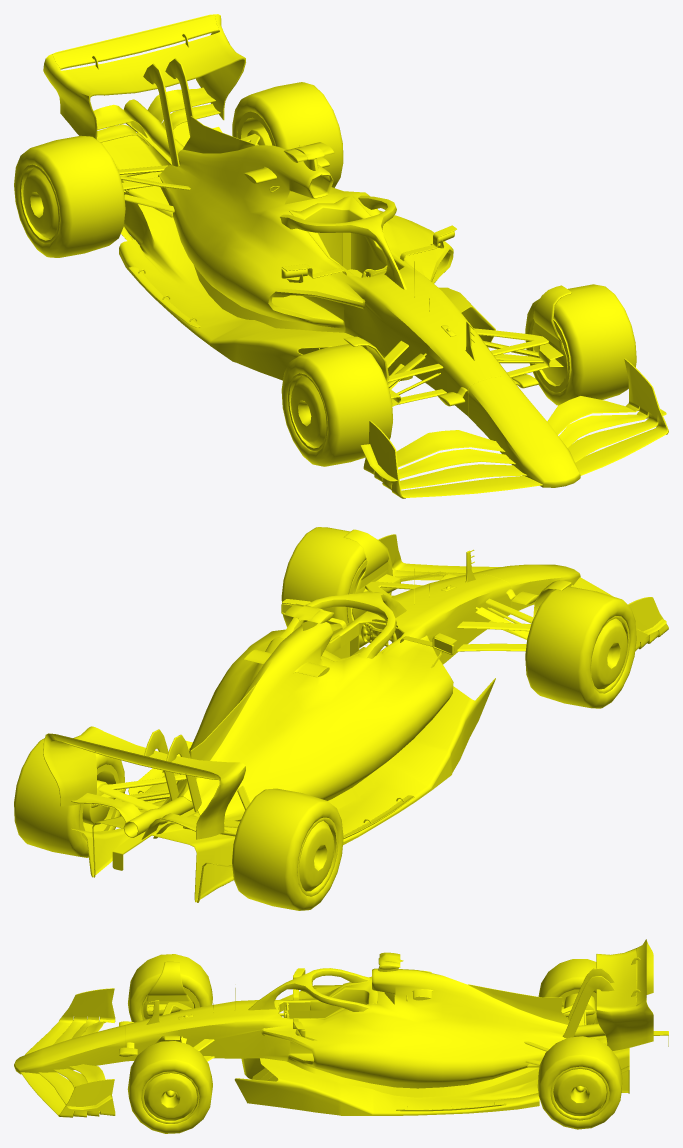
The model's file is F1PS_F1_Car_V11_Rev4.glb.
The picture shows the model from 3 angles, top to bottom: view 1: azimuth 30°, elevation 25°; view 2: azimuth 150°, elevation 25°; view 3: azimuth 270°, elevation 25°; orthographic projection. The views are drawn at different scales.
Parts seen in each view (by area): view 1: F1PS_F1_Car_Customizable, F1PS_F1_Car_Static; view 2: F1PS_F1_Car_Customizable, F1PS_F1_Car_Static; view 3: F1PS_F1_Car_Customizable, F1PS_F1_Car_Static.
Boxes of the visible parts, <box> form: F1PS_F1_Car_Customizable: <box>23,14,668,498</box>; F1PS_F1_Car_Static: <box>14,34,636,466</box>; F1PS_F1_Car_Customizable: <box>43,534,668,891</box>; F1PS_F1_Car_Static: <box>14,527,636,910</box>; F1PS_F1_Car_Customizable: <box>14,939,653,1120</box>; F1PS_F1_Car_Static: <box>119,952,668,1133</box>.
Size of the model in its own units: 2.2 by 1.16 by 5.52.
2 materials, 2 textured.
